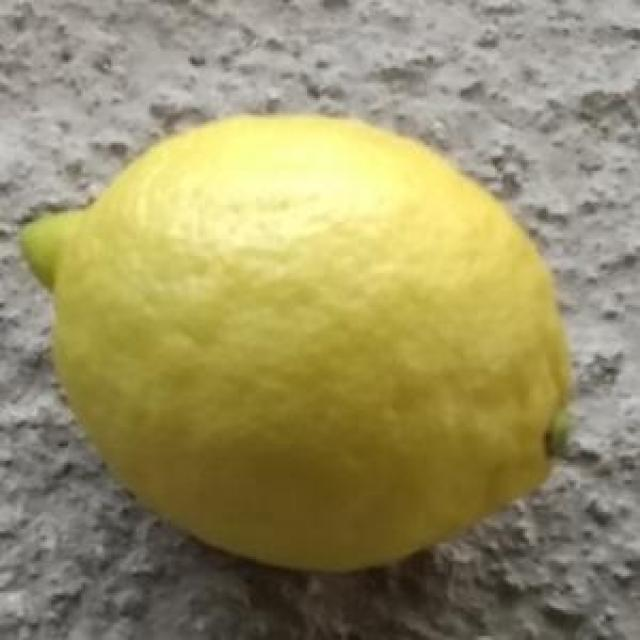lemon: (22, 114, 576, 574)
